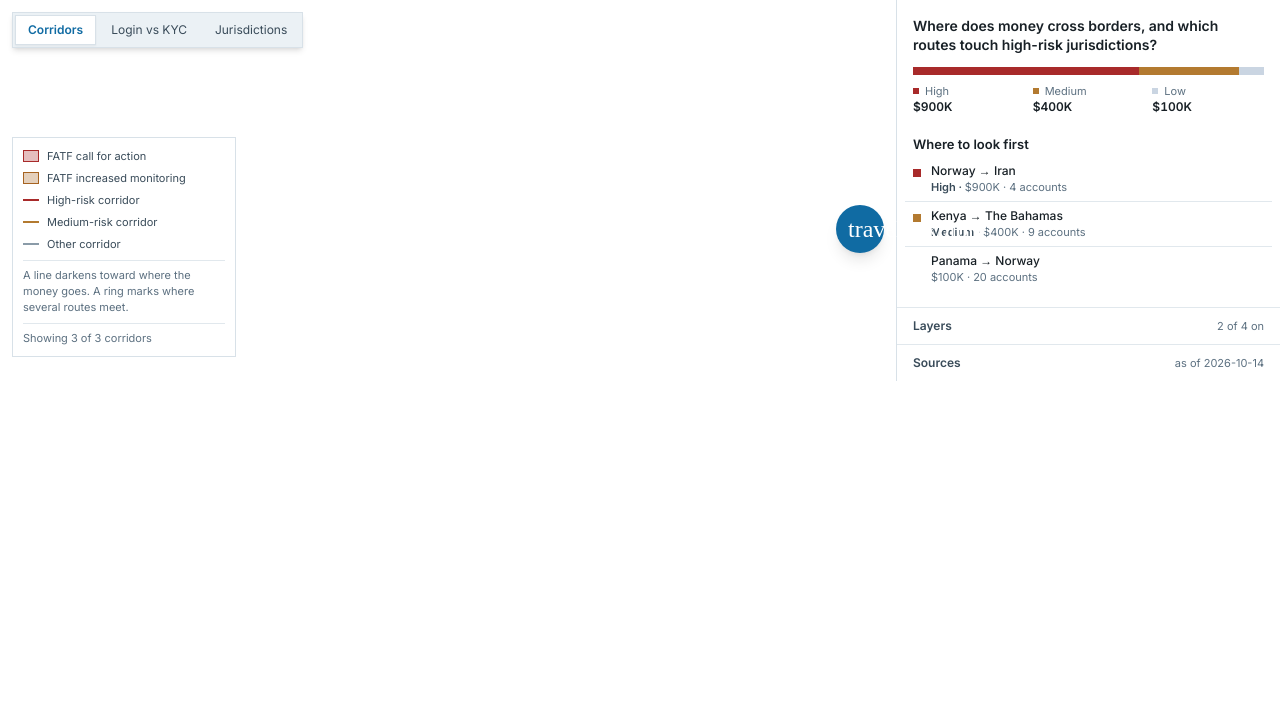
Test: workspace › offers the basis switch in Jurisdictions only, and it changes the list and the legend
Expected: the element "Where to look first" is shown, [913,134,1264,290]
Step 1. Click the tab "Jurisdictions" → click(251, 30), box [202,15,300,45]
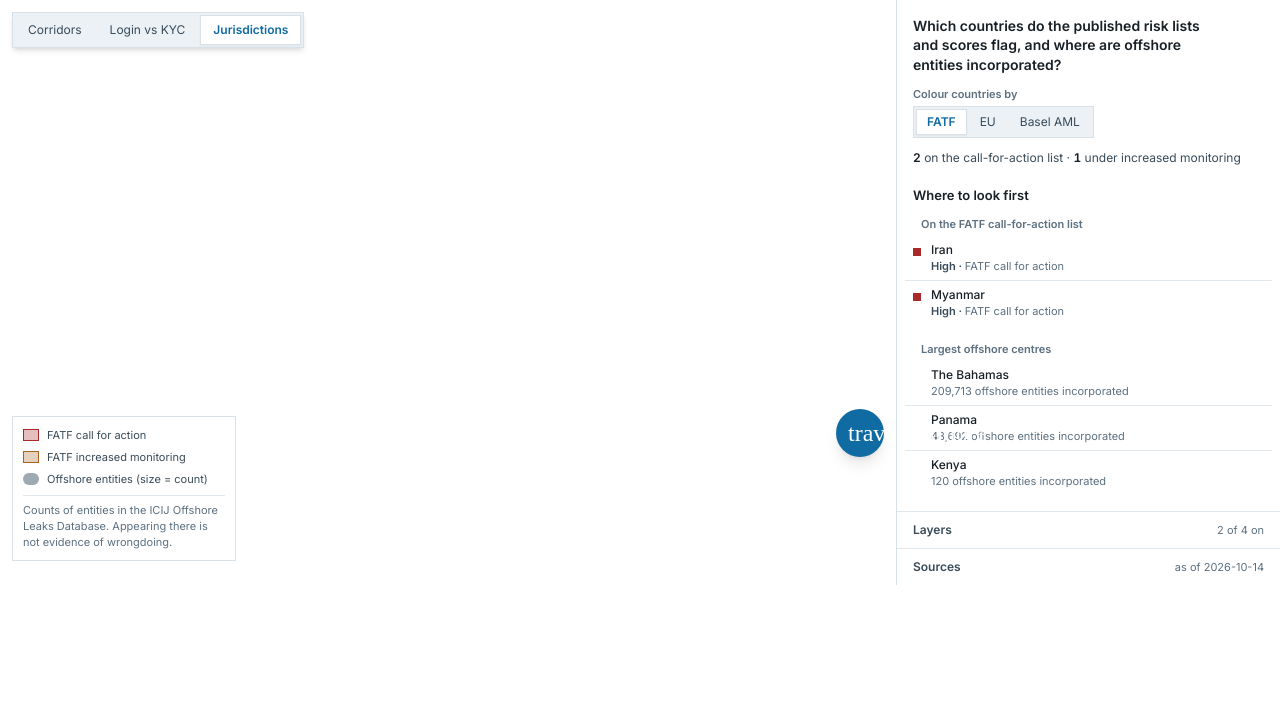
Step 2. Click the button "Basel AML" → click(1050, 122), box [1009,109,1091,135]
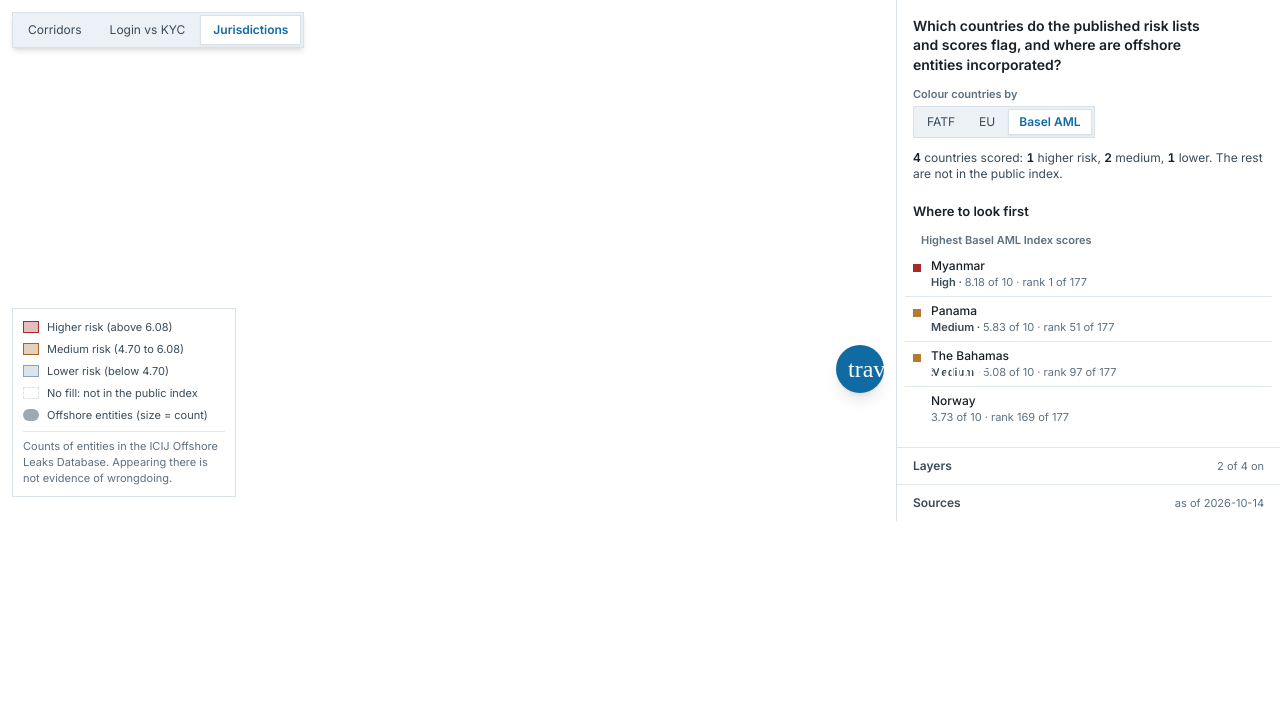
Expected: the text "Myanmar" is shown, [931,258,985,273]
Expected: the list item "Higher risk (above 6.08)" is shown, [23,320,172,334]
